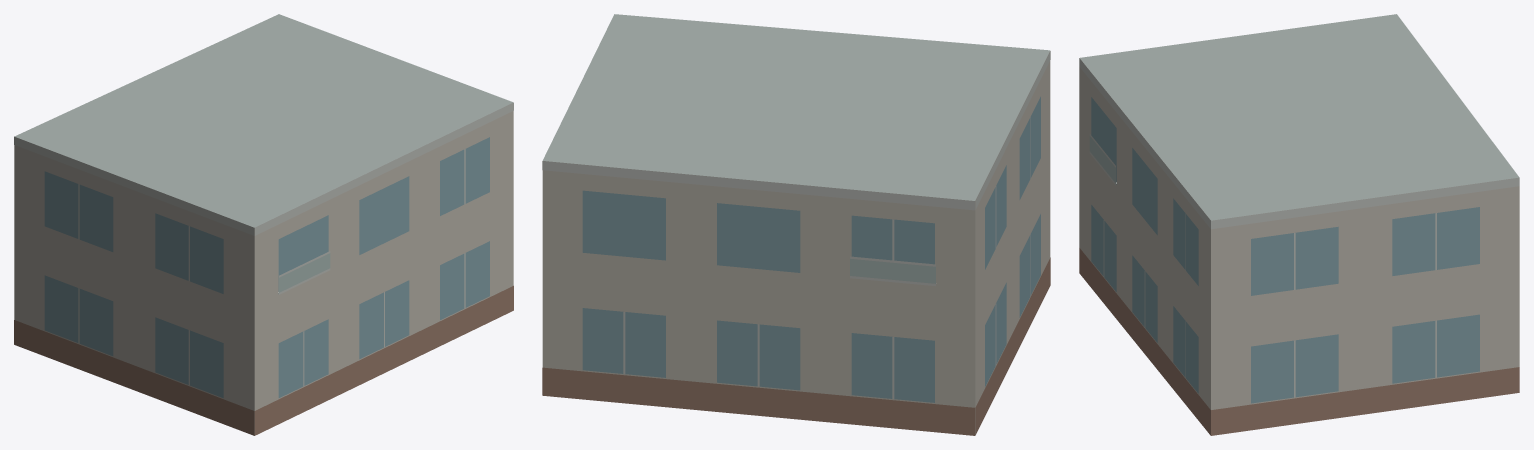
Rendered from survey-upis-32882375.glb.
3 renders of one model, left to right at view 1: azimuth 30°, elevation 25°; view 2: azimuth 150°, elevation 25°; view 3: azimuth 270°, elevation 25°, orthographic. The views are drawn at different scales.
Parts seen in each view (by area): view 1: survey-upis-32882375.tmp; view 2: survey-upis-32882375.tmp; view 3: survey-upis-32882375.tmp.
Boxes of the visible parts, bbox=[...] form: survey-upis-32882375.tmp: bbox=[14, 14, 513, 435]; survey-upis-32882375.tmp: bbox=[542, 14, 1050, 435]; survey-upis-32882375.tmp: bbox=[1079, 14, 1519, 435].
Bounding box in the file's own units: 12.58 × 6.1 × 11.32.
